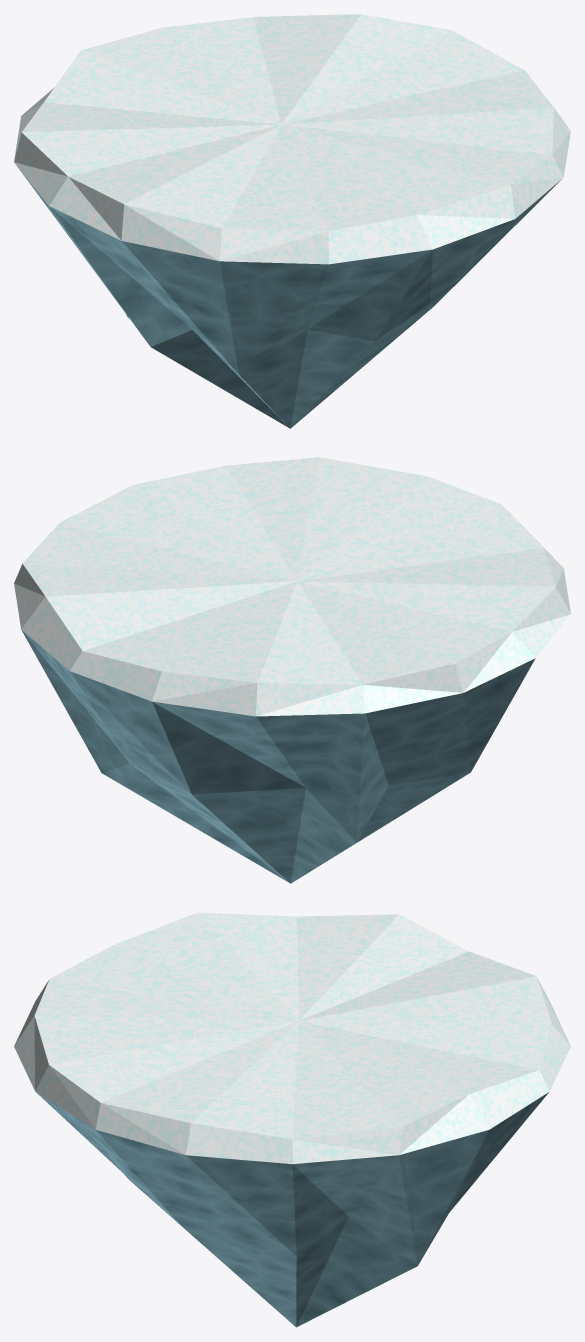
File: floating_island_4.glb
3 views of the same model, one above another, from view 1: azimuth 30°, elevation 25°; view 2: azimuth 150°, elevation 25°; view 3: azimuth 270°, elevation 25° (orthographic).
Parts seen in each view (by area): view 1: floating_island_4; view 2: floating_island_4; view 3: floating_island_4.
Boxes of the visible parts, left/top/right/bottom form: floating_island_4: left=14, top=14, right=570, bottom=428; floating_island_4: left=14, top=457, right=570, bottom=883; floating_island_4: left=14, top=912, right=570, bottom=1327.
Size of the model in its own units: 10.48 by 6.45 by 10.48.
2 materials, 2 textured.
